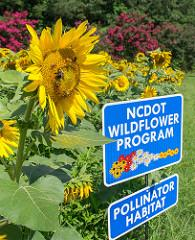sunflower: (23, 22, 107, 131), (0, 119, 20, 164), (154, 51, 171, 67), (115, 76, 130, 90), (141, 84, 155, 98)
